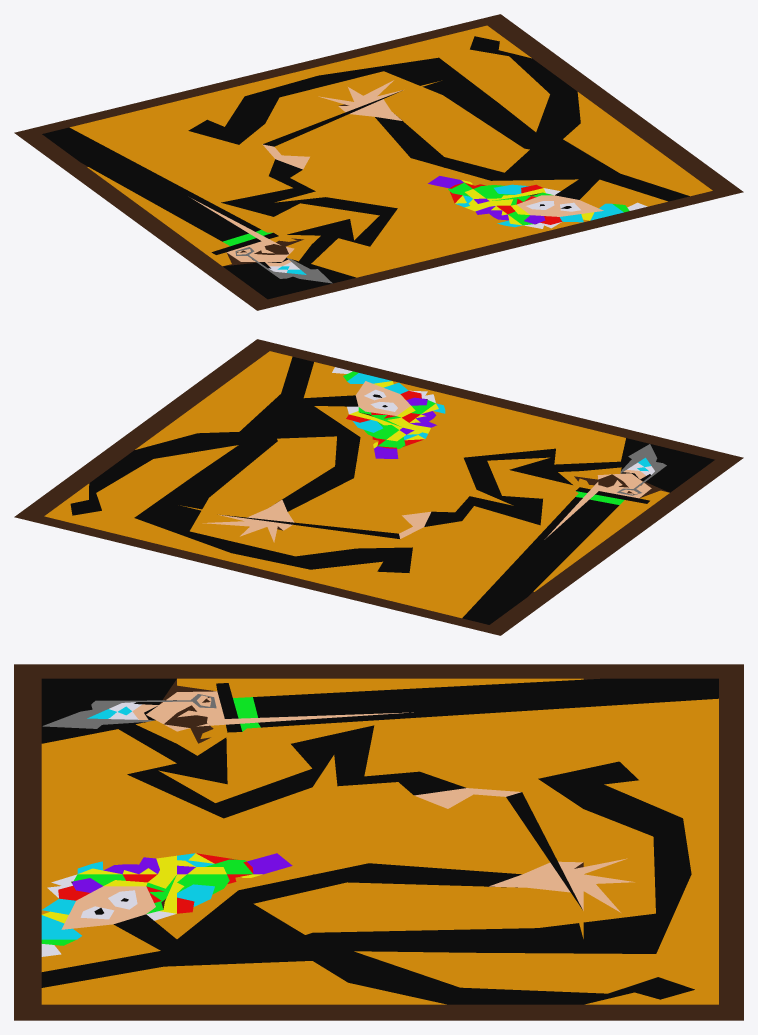
The model's file is sSistine Chapelfbx.fbx.
The picture shows the model from 3 angles, top to bottom: view 1: azimuth 30°, elevation 25°; view 2: azimuth 150°, elevation 25°; view 3: azimuth 270°, elevation 25°; orthographic projection. The views are drawn at different scales.
Visible parts, largest first — view 1: Plane; view 2: Plane; view 3: Plane.
Part boxes in pixels (<box>): Plane: <box>14,14,743,310</box>; Plane: <box>14,339,743,635</box>; Plane: <box>14,664,743,1020</box>.
Size of the model in its own units: 853 by 0.00012 by 738.
